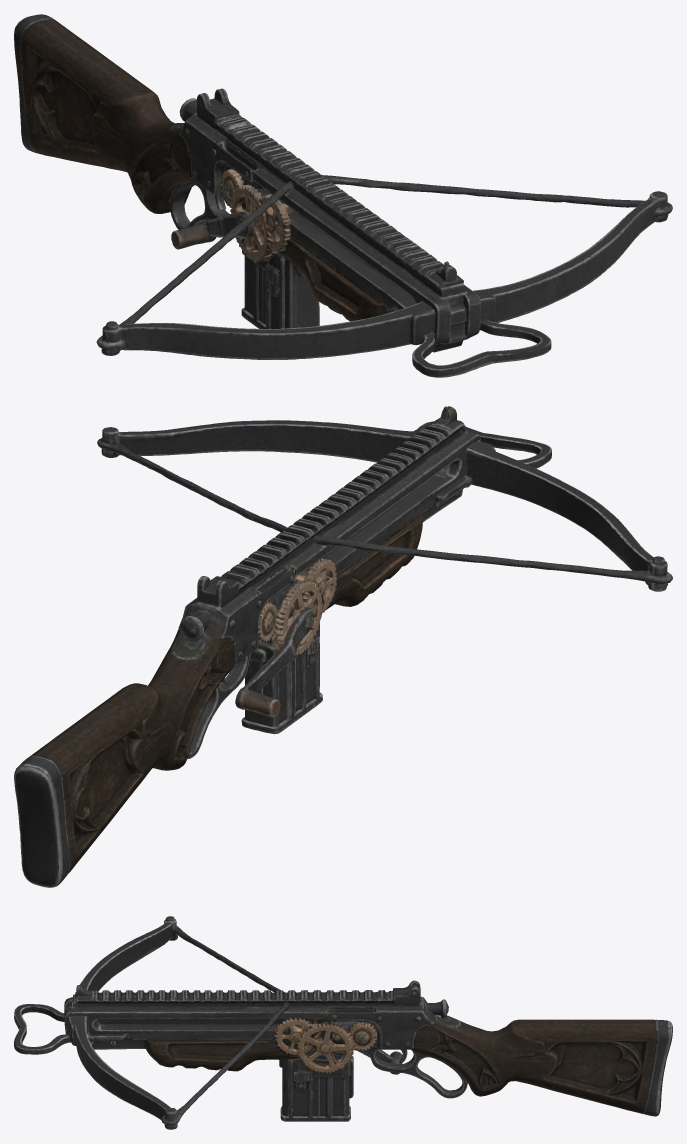
The model's file is repeating_arbalest.medium.glb.
3 views of the same model, one above another, from view 1: azimuth 30°, elevation 25°; view 2: azimuth 150°, elevation 25°; view 3: azimuth 270°, elevation 25° (orthographic). The views are drawn at different scales.
Visible parts, largest first — view 1: model; view 2: model; view 3: model.
Boxes of the visible parts, x1=… form: model: x1=14, y1=14, x2=672, y2=377; model: x1=14, y1=406, x2=672, y2=887; model: x1=14, y1=916, x2=672, y2=1129.
Size of the model in its own units: 0.6755 by 0.2104 by 0.9507.
1 material, 1 textured.
